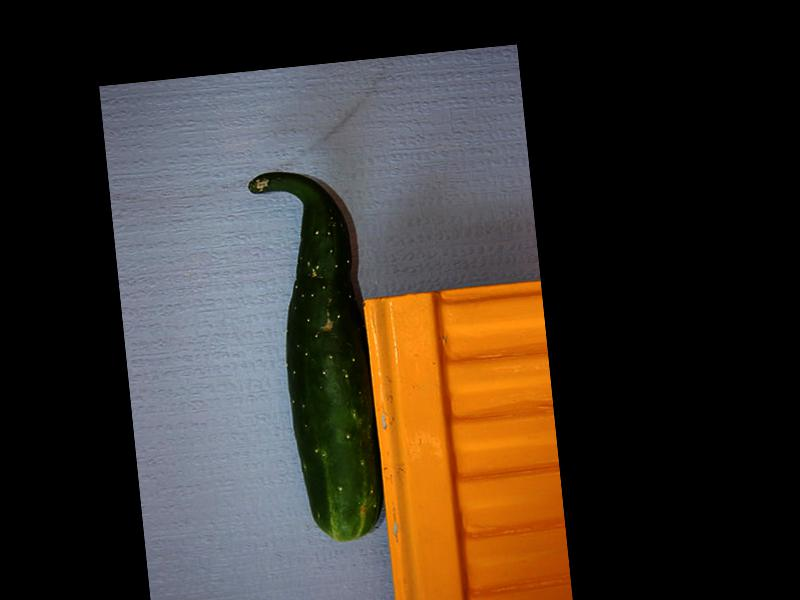Cucumber: (246, 163, 387, 544)
